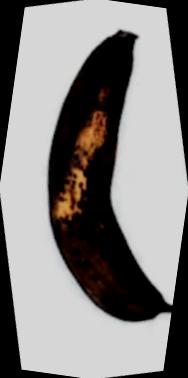Banana Overripe: (8, 0, 188, 360)
